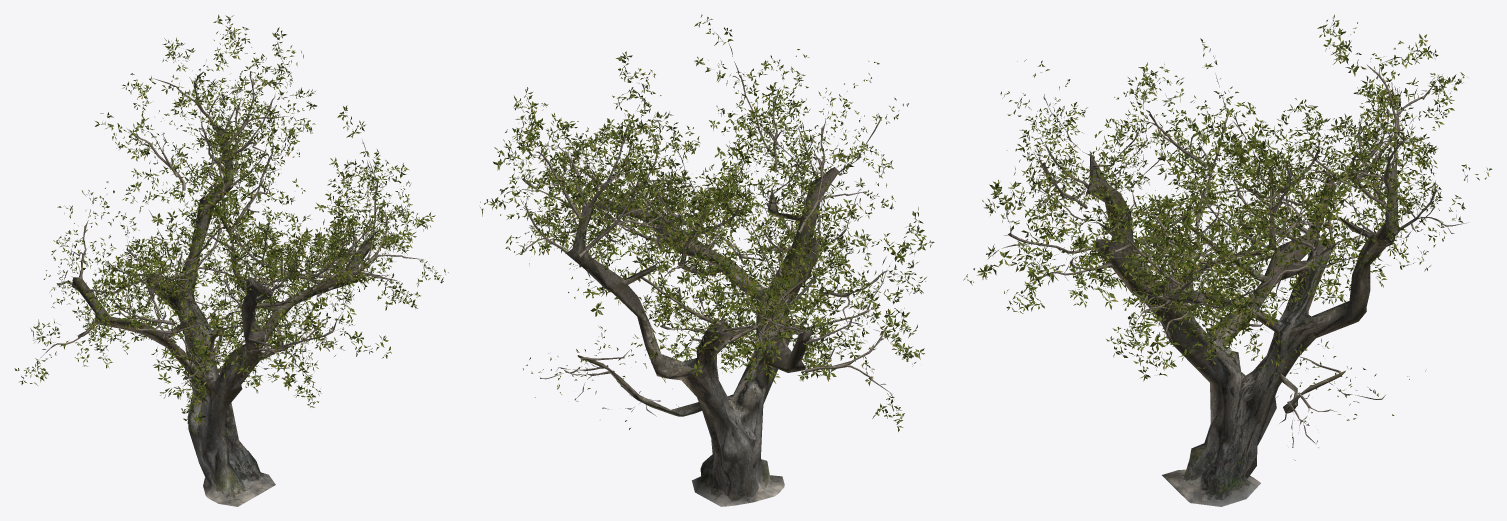
Rendered from island_tree_01.glb.
3 views of the same model, side by side, from view 1: azimuth 30°, elevation 25°; view 2: azimuth 150°, elevation 25°; view 3: azimuth 270°, elevation 25° (orthographic). The views are drawn at different scales.
Visible parts, largest first — view 1: island_tree_01_LOD0; view 2: island_tree_01_LOD0; view 3: island_tree_01_LOD0.
Boxes of the visible parts, <box> form: island_tree_01_LOD0: <box>14,14,448,506</box>; island_tree_01_LOD0: <box>480,14,934,506</box>; island_tree_01_LOD0: <box>963,14,1492,506</box>.
Bounding box in the file's own units: 4.74 × 5.02 × 4.81.
Materials: 3 (3 with a texture image).
